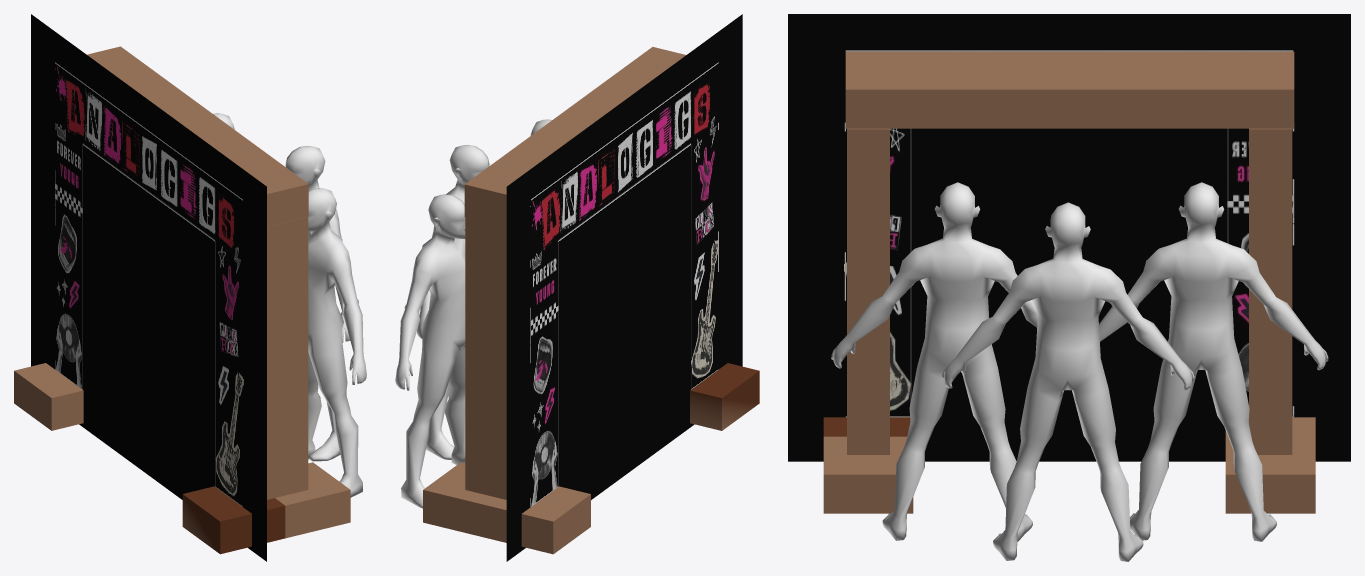
The model's file is photoboothdesign.fbx.
The picture shows the model from 3 angles, left to right: view 1: azimuth 30°, elevation 25°; view 2: azimuth 150°, elevation 25°; view 3: azimuth 270°, elevation 25°; orthographic projection. The views are drawn at different scales.
Parts seen in each view (by area): view 1: dekor pb, Cube.020, Cube.010, Cube.017, Cube.016, Cube.004, Cube.001, Cube.003, Cube.002, Cube.011, Cube.019, Cube.013 (+3 smaller); view 2: dekor pb, Cube.018, Cube.017, Cube.010, Cube.009, Cube.006, Cube.007, Cube.008, Cube.005, Cube.015, Cube.019, Cube.012 (+3 smaller); view 3: dekor pb, Cube.019, Cube.018, Cube.020, Cube.011, Cube.015, Cube.012, Cube.013, Cube.014, Cube.016, Cube.009, Cube.005 (+8 smaller).
Part boxes in pixels (x1,y1,x2,y2): dekor pb: (31, 14, 266, 561); Cube.020: (308, 188, 366, 497); Cube.010: (182, 486, 285, 554); Cube.017: (14, 363, 83, 430); Cube.016: (275, 462, 350, 538); Cube.004: (267, 217, 308, 295); Cube.001: (267, 422, 308, 499); Cube.003: (267, 285, 308, 363); Cube.002: (267, 353, 308, 431); Cube.011: (237, 156, 308, 226); Cube.019: (285, 146, 350, 461); Cube.013: (162, 101, 232, 137); dekor pb: (506, 14, 742, 561); Cube.018: (395, 194, 465, 508); Cube.017: (488, 486, 590, 554); Cube.010: (690, 363, 759, 430); Cube.009: (423, 462, 498, 538); Cube.006: (465, 285, 506, 363); Cube.007: (465, 353, 506, 431); Cube.008: (465, 422, 506, 499); Cube.005: (465, 217, 506, 295); Cube.015: (464, 157, 535, 227); Cube.019: (417, 145, 489, 459); Cube.012: (577, 74, 648, 109); dekor pb: (788, 14, 1350, 461); Cube.019: (942, 202, 1194, 561); Cube.018: (1099, 182, 1328, 541); Cube.020: (831, 182, 1037, 541); Cube.011: (845, 51, 935, 128); Cube.015: (1204, 51, 1294, 128); Cube.012: (935, 51, 1024, 128); Cube.013: (1025, 51, 1114, 128); Cube.014: (1115, 51, 1204, 128); Cube.016: (823, 436, 913, 513); Cube.009: (1225, 436, 1315, 513); Cube.005: (1249, 128, 1292, 210).
Bounding box in the file's own units: 645 × 1101 × 1254.
Materials: 5 (1 with a texture image).
